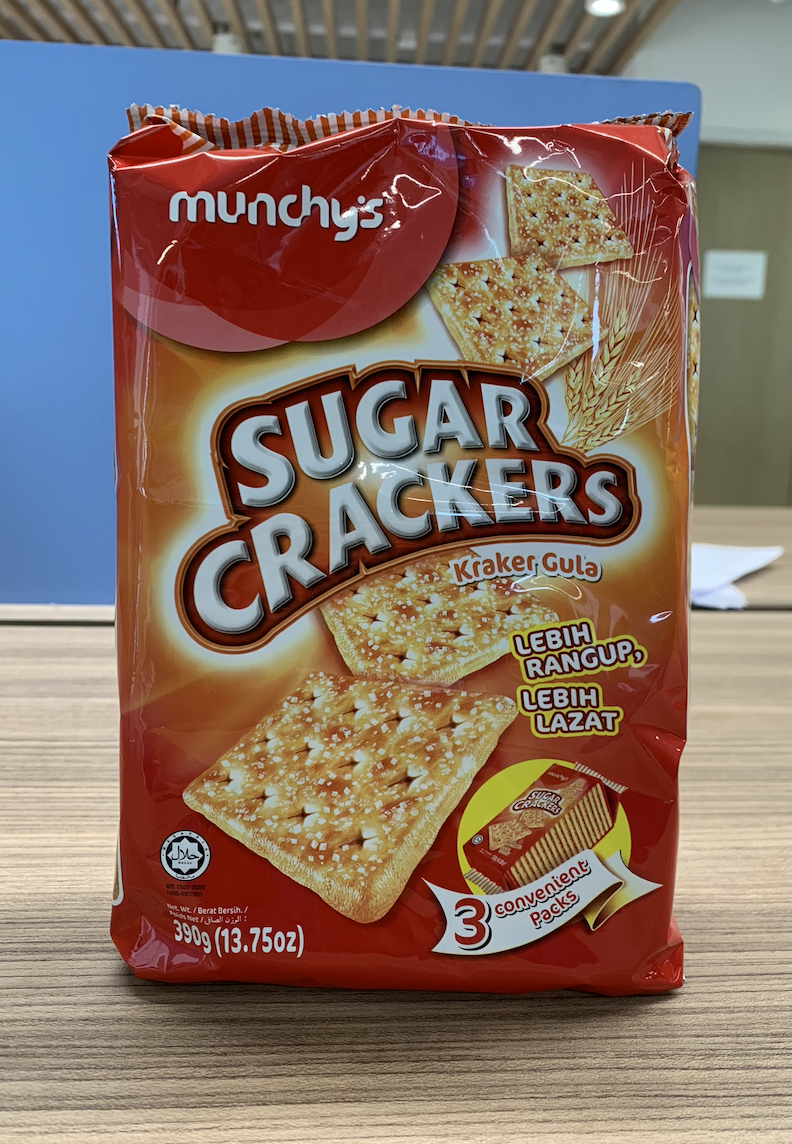crackers_300g-399g: (153, 136, 648, 963)
